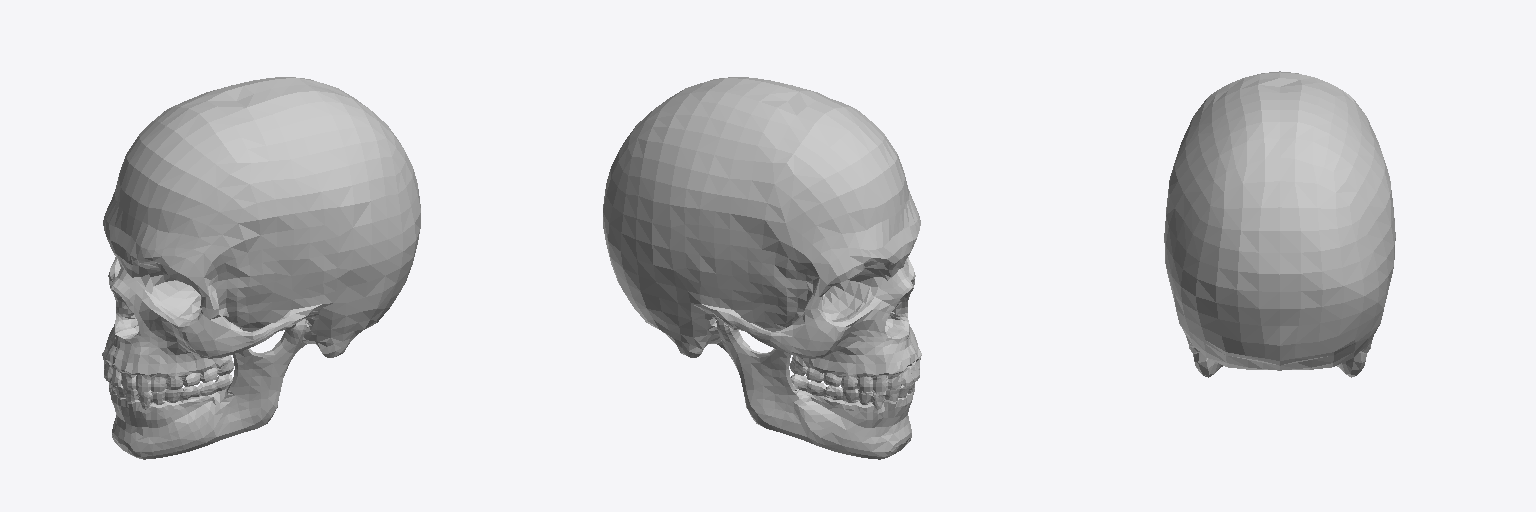
The model's file is craneo.obj.
The picture shows the model from 3 angles: view 1: azimuth 30°, elevation 25°; view 2: azimuth 150°, elevation 25°; view 3: azimuth 270°, elevation 25°; orthographic projection.
Parts seen in each view (by area): view 1: ZS4LPXG6YK0BQ2AQRO7EQL8R7.249, ZS4LPXG6YK0BQ2AQRO7EQL8R7.237, ZS4LPXG6YK0BQ2AQRO7EQL8R7.242, ZS4LPXG6YK0BQ2AQRO7EQL8R7.238, ZS4LPXG6YK0BQ2AQRO7EQL8R7.258, ZS4LPXG6YK0BQ2AQRO7EQL8R7.246, ZS4LPXG6YK0BQ2AQRO7EQL8R7.241, ZS4LPXG6YK0BQ2AQRO7EQL8R7.253, ZS4LPXG6YK0BQ2AQRO7EQL8R7.265, ZS4LPXG6YK0BQ2AQRO7EQL8R7.261; view 2: ZS4LPXG6YK0BQ2AQRO7EQL8R7.246, ZS4LPXG6YK0BQ2AQRO7EQL8R7.237, ZS4LPXG6YK0BQ2AQRO7EQL8R7.242, ZS4LPXG6YK0BQ2AQRO7EQL8R7.254, ZS4LPXG6YK0BQ2AQRO7EQL8R7.258, ZS4LPXG6YK0BQ2AQRO7EQL8R7.249, ZS4LPXG6YK0BQ2AQRO7EQL8R7.241, ZS4LPXG6YK0BQ2AQRO7EQL8R7.252, ZS4LPXG6YK0BQ2AQRO7EQL8R7.250, ZS4LPXG6YK0BQ2AQRO7EQL8R7.255; view 3: ZS4LPXG6YK0BQ2AQRO7EQL8R7.249, ZS4LPXG6YK0BQ2AQRO7EQL8R7.246, ZS4LPXG6YK0BQ2AQRO7EQL8R7.243, ZS4LPXG6YK0BQ2AQRO7EQL8R7.237, ZS4LPXG6YK0BQ2AQRO7EQL8R7.240.
Part boxes in pixels (bbox=[...]): ZS4LPXG6YK0BQ2AQRO7EQL8R7.249: bbox=[186, 85, 420, 373]; ZS4LPXG6YK0BQ2AQRO7EQL8R7.237: bbox=[102, 99, 260, 378]; ZS4LPXG6YK0BQ2AQRO7EQL8R7.242: bbox=[109, 319, 307, 459]; ZS4LPXG6YK0BQ2AQRO7EQL8R7.238: bbox=[132, 265, 198, 318]; ZS4LPXG6YK0BQ2AQRO7EQL8R7.258: bbox=[103, 358, 233, 391]; ZS4LPXG6YK0BQ2AQRO7EQL8R7.246: bbox=[184, 77, 360, 105]; ZS4LPXG6YK0BQ2AQRO7EQL8R7.241: bbox=[109, 376, 232, 409]; ZS4LPXG6YK0BQ2AQRO7EQL8R7.253: bbox=[243, 303, 332, 349]; ZS4LPXG6YK0BQ2AQRO7EQL8R7.265: bbox=[315, 329, 364, 357]; ZS4LPXG6YK0BQ2AQRO7EQL8R7.261: bbox=[110, 288, 137, 333]; ZS4LPXG6YK0BQ2AQRO7EQL8R7.246: bbox=[603, 85, 837, 373]; ZS4LPXG6YK0BQ2AQRO7EQL8R7.237: bbox=[763, 99, 921, 378]; ZS4LPXG6YK0BQ2AQRO7EQL8R7.242: bbox=[716, 319, 914, 459]; ZS4LPXG6YK0BQ2AQRO7EQL8R7.254: bbox=[825, 265, 891, 318]; ZS4LPXG6YK0BQ2AQRO7EQL8R7.258: bbox=[790, 358, 920, 391]; ZS4LPXG6YK0BQ2AQRO7EQL8R7.249: bbox=[663, 77, 835, 105]; ZS4LPXG6YK0BQ2AQRO7EQL8R7.241: bbox=[791, 376, 914, 409]; ZS4LPXG6YK0BQ2AQRO7EQL8R7.252: bbox=[691, 303, 780, 349]; ZS4LPXG6YK0BQ2AQRO7EQL8R7.250: bbox=[659, 329, 708, 357]; ZS4LPXG6YK0BQ2AQRO7EQL8R7.255: bbox=[886, 288, 913, 332]; ZS4LPXG6YK0BQ2AQRO7EQL8R7.249: bbox=[1164, 78, 1279, 360]; ZS4LPXG6YK0BQ2AQRO7EQL8R7.246: bbox=[1280, 78, 1395, 360]; ZS4LPXG6YK0BQ2AQRO7EQL8R7.243: bbox=[1189, 331, 1370, 370]; ZS4LPXG6YK0BQ2AQRO7EQL8R7.237: bbox=[1195, 71, 1364, 113]; ZS4LPXG6YK0BQ2AQRO7EQL8R7.240: bbox=[1198, 353, 1361, 377].
Size of the model in its own units: 0.2958 by 0.314 by 0.2017.